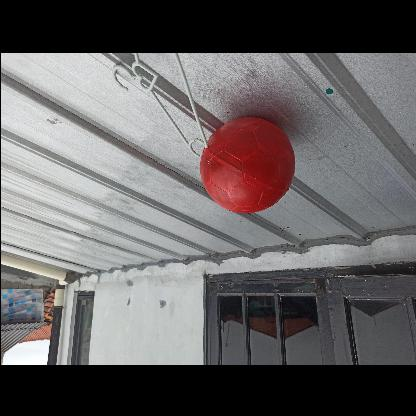red_ball: (199, 116, 295, 212)
